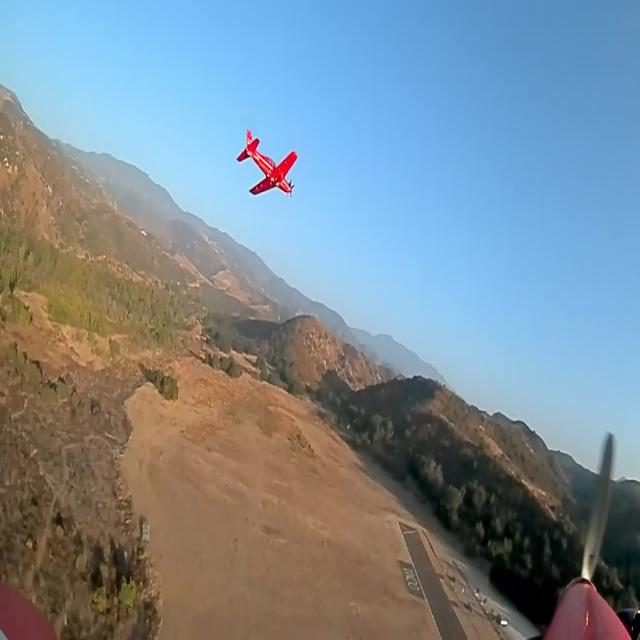iha: (230, 160, 291, 165)
